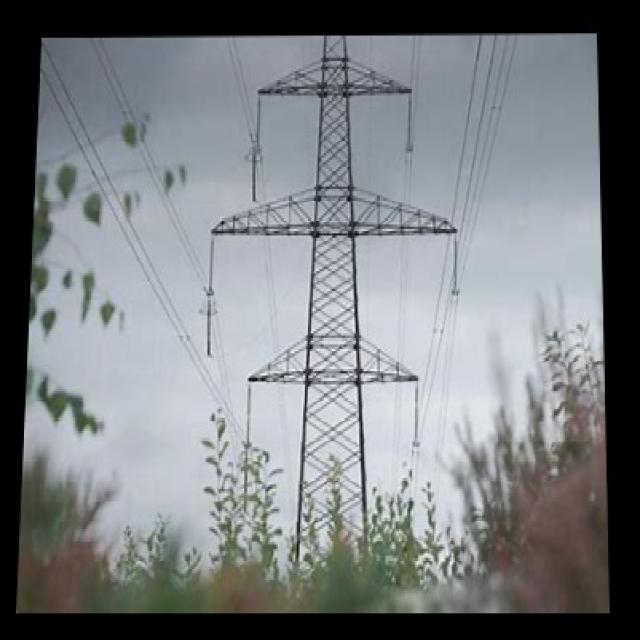utility poles: (189, 343, 493, 608)
